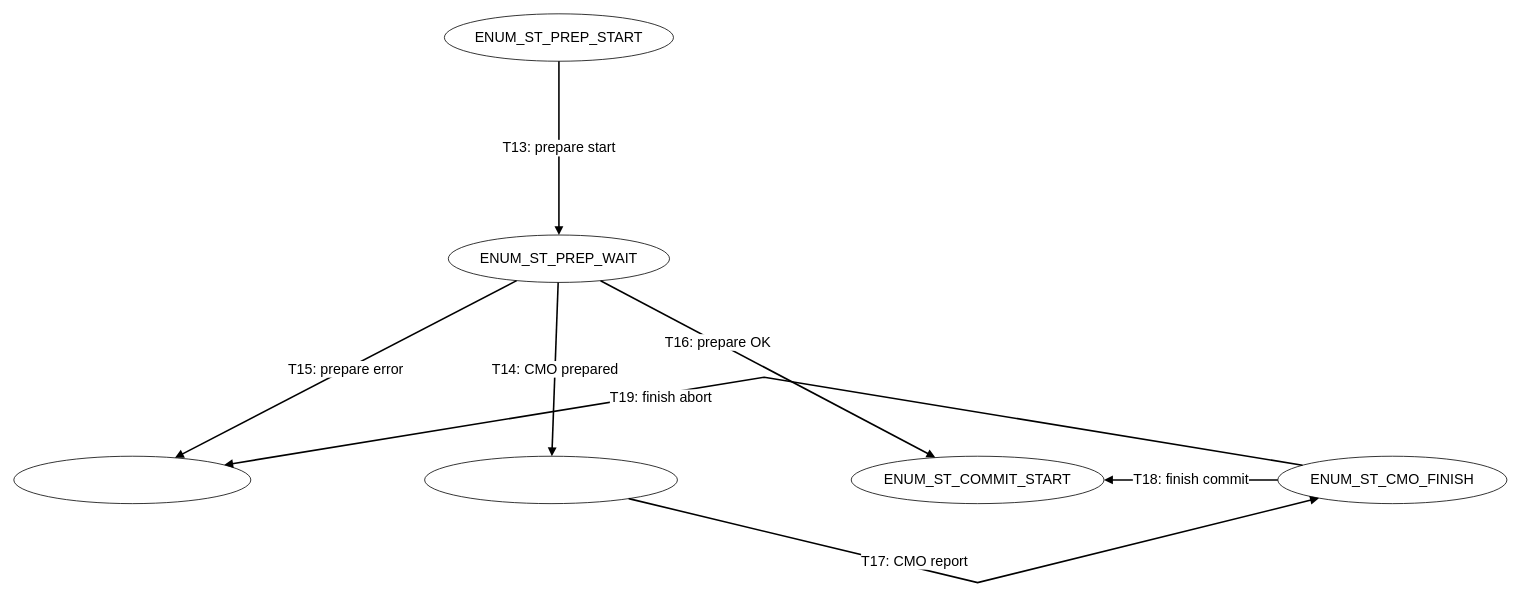
This 1521x604 diagram has some shape labels left out. Each missing label, with the box of its shape:
ENUM_ST_ABORT_START: (13, 455, 251, 504)
ENUM_ST_CMO_PREPARED: (424, 455, 677, 504)
